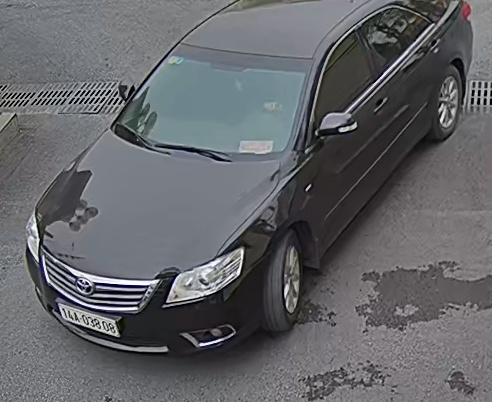vehicle plate: (54, 298, 122, 337)
